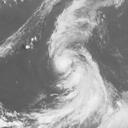cyclone: (46, 38, 97, 87)
